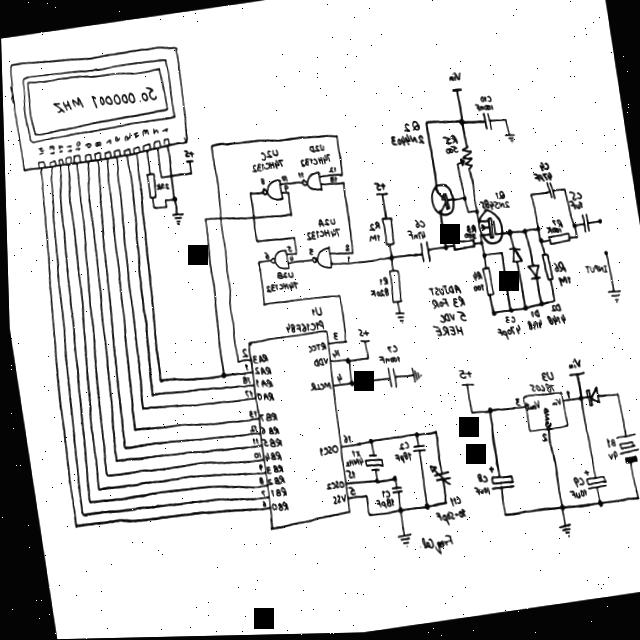capacitor: (483, 464, 510, 493), (425, 462, 448, 489), (578, 468, 603, 492), (382, 366, 396, 391), (416, 241, 428, 264), (479, 113, 492, 132), (494, 273, 512, 286), (578, 214, 589, 235), (542, 181, 553, 202), (407, 442, 423, 456), (386, 485, 400, 496)
crossover: (248, 213, 254, 222), (215, 215, 220, 221), (166, 172, 171, 178)
diode: (580, 386, 597, 410), (505, 246, 521, 266), (523, 264, 539, 282)
ground: (391, 533, 410, 549), (603, 290, 619, 306), (553, 524, 568, 541), (168, 211, 183, 226), (390, 310, 404, 326), (407, 366, 419, 384), (501, 131, 514, 146)
junction: (340, 356, 349, 366), (503, 228, 511, 238), (456, 118, 464, 128), (344, 378, 352, 388), (629, 495, 637, 504), (216, 371, 224, 380), (127, 424, 135, 433), (363, 437, 370, 446), (419, 502, 426, 511), (482, 407, 489, 416), (497, 511, 504, 520), (409, 431, 416, 440), (154, 375, 161, 384), (118, 442, 125, 451), (592, 500, 599, 509), (285, 211, 292, 219), (392, 507, 399, 515), (136, 403, 143, 411), (532, 226, 539, 234), (206, 142, 213, 150), (288, 233, 294, 242), (611, 392, 617, 400), (251, 237, 257, 245), (245, 189, 251, 197), (429, 429, 435, 437), (200, 215, 206, 223), (361, 355, 367, 363), (387, 475, 393, 483), (169, 195, 175, 202), (465, 410, 471, 417), (459, 196, 465, 203), (333, 293, 339, 300), (359, 493, 365, 500), (362, 512, 368, 519), (478, 253, 484, 260), (385, 255, 391, 262), (574, 396, 580, 403), (526, 192, 531, 200), (519, 306, 525, 312), (519, 229, 525, 235), (471, 210, 477, 216), (488, 311, 493, 318), (501, 117, 506, 124), (186, 169, 191, 176), (149, 204, 154, 211), (332, 133, 337, 140), (559, 188, 564, 195), (555, 505, 560, 512), (440, 245, 445, 252), (370, 478, 375, 485), (69, 522, 74, 528), (76, 510, 81, 516), (569, 224, 574, 230), (536, 302, 541, 308), (505, 308, 510, 314), (535, 239, 540, 245), (476, 241, 481, 247), (232, 358, 237, 364), (253, 260, 258, 265), (110, 457, 115, 462), (92, 486, 97, 491), (258, 302, 263, 307), (496, 252, 501, 257), (340, 340, 345, 345), (572, 235, 576, 241), (147, 391, 151, 397), (83, 498, 87, 504), (439, 500, 443, 506), (101, 472, 105, 477), (157, 174, 161, 179), (463, 210, 467, 215), (453, 163, 457, 168), (422, 121, 426, 126), (549, 300, 553, 305), (347, 251, 351, 256), (337, 173, 341, 178), (291, 251, 295, 256), (160, 198, 164, 202), (339, 182, 343, 186), (162, 205, 165, 209), (284, 191, 287, 195)
resistor: (384, 268, 401, 305), (455, 144, 473, 173), (478, 266, 493, 299), (378, 217, 393, 247), (538, 253, 551, 284), (544, 232, 568, 248), (449, 239, 473, 253), (143, 171, 155, 199)
source: (611, 434, 637, 467)
terminal: (564, 372, 582, 379), (457, 382, 471, 389), (372, 192, 386, 198), (449, 88, 460, 95), (356, 338, 367, 345), (593, 218, 601, 227), (183, 159, 192, 163), (600, 251, 605, 258)
text: (50, 84, 156, 115), (415, 533, 450, 558), (281, 317, 322, 335), (430, 508, 464, 528), (388, 131, 423, 150), (428, 322, 461, 341), (428, 295, 462, 312), (302, 227, 339, 242), (476, 197, 508, 214), (425, 283, 458, 299), (248, 158, 282, 173), (297, 153, 329, 168), (262, 280, 296, 294), (492, 325, 518, 343), (435, 310, 463, 326), (304, 378, 328, 394), (524, 382, 552, 395), (581, 263, 605, 278), (374, 353, 398, 367), (303, 340, 325, 355), (314, 443, 336, 458), (320, 478, 341, 493), (542, 313, 563, 328), (313, 215, 335, 229), (389, 451, 409, 466), (370, 498, 391, 512), (266, 499, 285, 514), (404, 228, 423, 243), (257, 148, 277, 162), (366, 286, 387, 299), (258, 436, 279, 449), (468, 485, 487, 499), (251, 376, 270, 390), (252, 389, 271, 403), (472, 102, 492, 115), (256, 424, 276, 437), (308, 355, 326, 369), (400, 120, 418, 134), (260, 449, 278, 463), (530, 172, 550, 184), (340, 457, 360, 469), (250, 364, 268, 377), (265, 486, 283, 499), (263, 474, 281, 487), (256, 411, 274, 424), (564, 489, 583, 501), (261, 463, 280, 475), (549, 261, 564, 276), (445, 71, 461, 85), (326, 493, 343, 506), (305, 143, 323, 155), (538, 409, 548, 430), (523, 319, 539, 332), (248, 352, 265, 364), (439, 135, 456, 147), (472, 472, 486, 486), (565, 200, 580, 213), (521, 400, 537, 412), (306, 305, 320, 318), (444, 495, 458, 508), (273, 270, 291, 280), (565, 191, 580, 203), (454, 369, 469, 381), (543, 226, 559, 237), (537, 371, 550, 384), (554, 276, 568, 288), (564, 359, 578, 371), (365, 221, 378, 233), (371, 181, 384, 193), (568, 477, 580, 490), (153, 181, 168, 191), (501, 315, 513, 327), (468, 271, 480, 283), (411, 218, 423, 230), (393, 440, 406, 451), (382, 344, 395, 355), (353, 328, 366, 339), (341, 468, 352, 481), (442, 146, 456, 156), (549, 219, 560, 231), (536, 162, 547, 174), (338, 433, 348, 446), (365, 233, 378, 243), (547, 398, 558, 409), (375, 276, 386, 287), (492, 191, 503, 202), (603, 452, 614, 463), (546, 304, 558, 314), (602, 438, 612, 450), (477, 96, 490, 105), (469, 284, 482, 293), (327, 349, 337, 360), (327, 330, 337, 341), (181, 148, 192, 158), (346, 449, 357, 459), (377, 489, 387, 500), (463, 225, 474, 235), (331, 372, 340, 384), (527, 310, 537, 320), (121, 131, 130, 142), (71, 140, 80, 151), (236, 347, 245, 358), (461, 233, 474, 240), (139, 127, 148, 137), (248, 450, 258, 459), (244, 409, 254, 418), (240, 389, 250, 398), (238, 375, 247, 385), (46, 143, 54, 154), (536, 433, 544, 444), (344, 487, 352, 497), (35, 145, 43, 155), (325, 166, 334, 174), (247, 436, 255, 445), (244, 424, 253, 432), (510, 398, 517, 408), (130, 130, 138, 138), (92, 139, 100, 147), (82, 141, 90, 149), (150, 126, 157, 135), (64, 143, 71, 152), (55, 143, 62, 152), (327, 176, 335, 183), (112, 134, 119, 142), (283, 245, 290, 253), (295, 171, 302, 179), (278, 174, 285, 182), (261, 251, 267, 260), (257, 177, 263, 186), (254, 476, 260, 485), (253, 463, 259, 472), (103, 138, 110, 145), (341, 244, 347, 252), (159, 127, 167, 133), (305, 248, 311, 256), (256, 489, 262, 497), (281, 184, 286, 193), (240, 362, 245, 371), (562, 391, 567, 400), (343, 255, 348, 263), (257, 500, 262, 508), (286, 255, 291, 262)
transistor: (473, 210, 502, 247), (426, 183, 454, 219)
